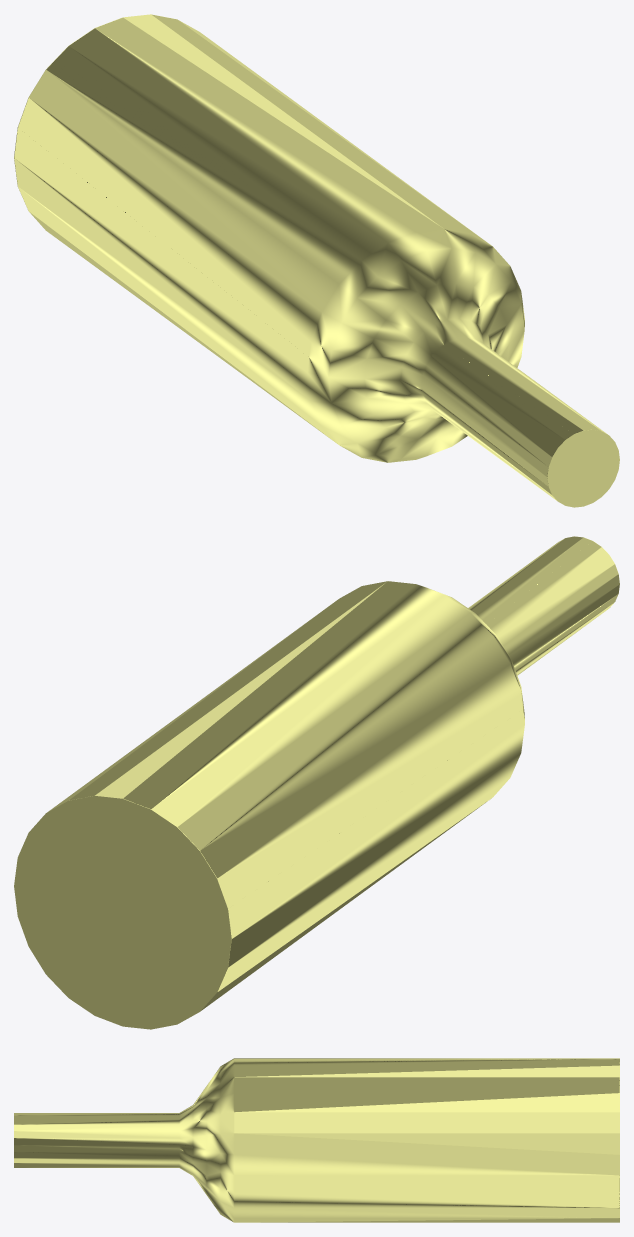
Rendered from model_align.obj.
The picture shows the model from 3 angles, top to bottom: view 1: azimuth 30°, elevation 25°; view 2: azimuth 150°, elevation 25°; view 3: azimuth 270°, elevation 25°; orthographic projection. The views are drawn at different scales.
Size of the model in its own units: 0.0703 by 0.0703 by 0.2578.
